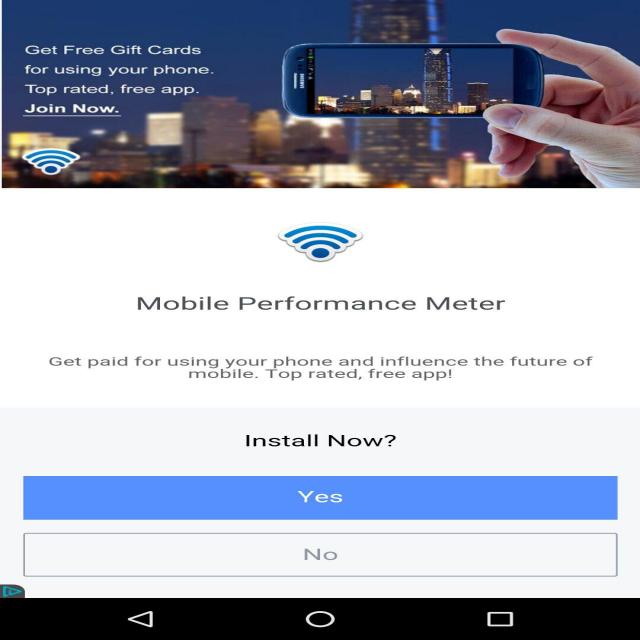button: (14, 455, 621, 596)
icon: (231, 217, 393, 263), (15, 142, 96, 180)
image: (4, 0, 640, 185)
text: (14, 273, 635, 451), (10, 31, 225, 127)
